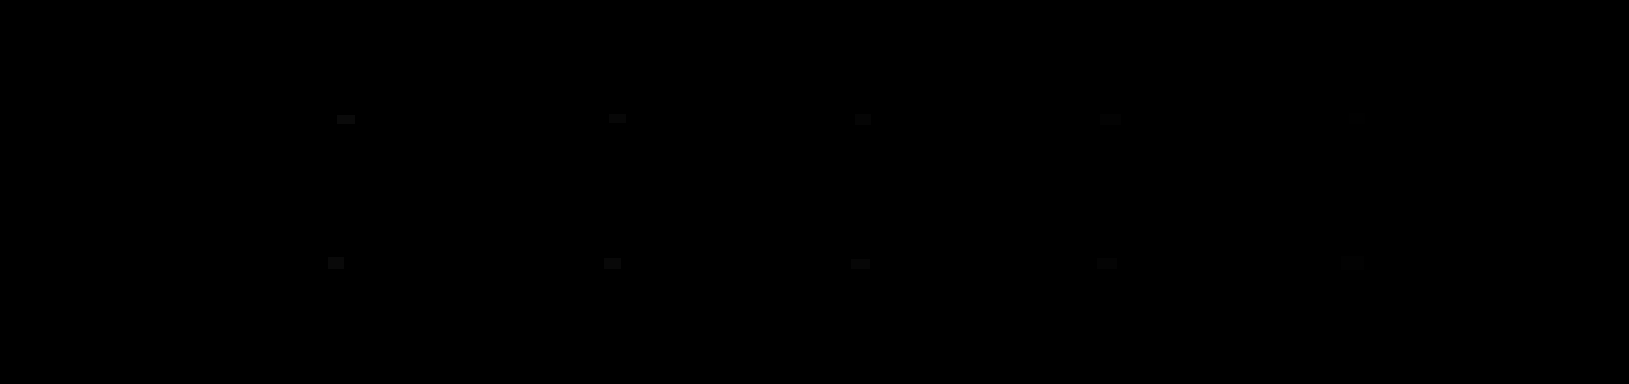light: (1341, 256, 1364, 270), (1100, 114, 1121, 125), (1097, 258, 1117, 269), (604, 258, 621, 269), (328, 257, 344, 269), (851, 259, 870, 269), (1348, 113, 1365, 124), (609, 114, 626, 124), (855, 114, 871, 125), (337, 115, 355, 124)
